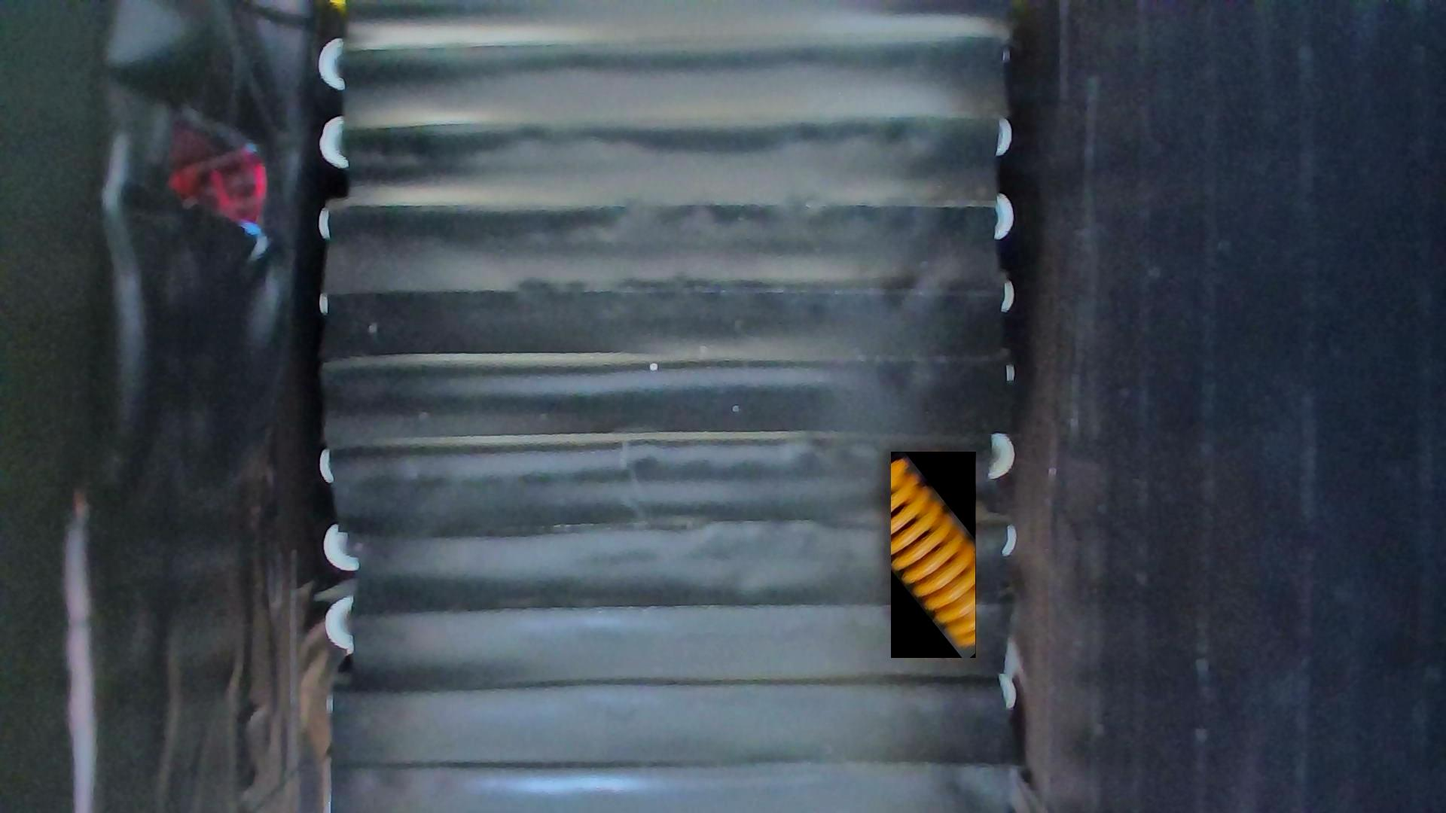spring: (891, 452, 977, 658)
